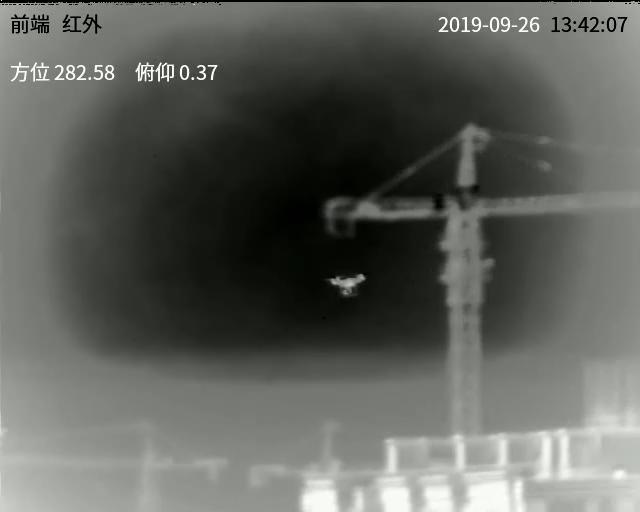uav: (327, 271, 370, 301)
